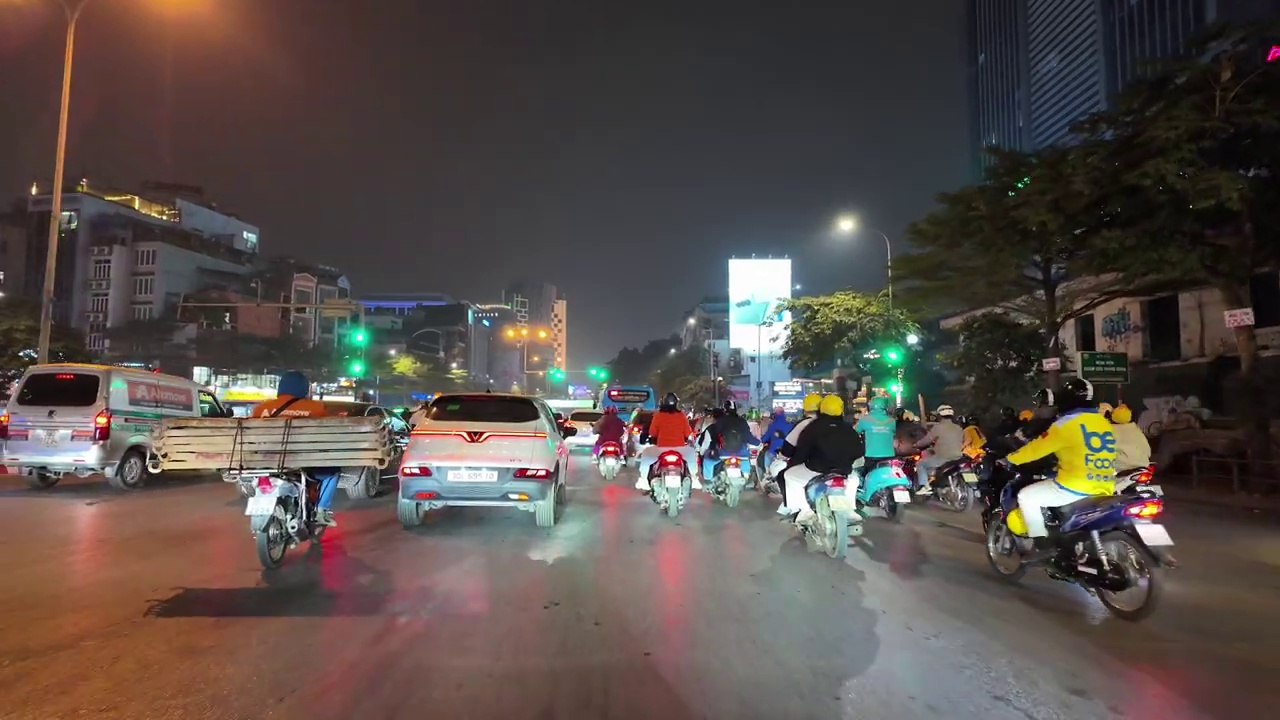acesa: (831, 211, 861, 239)
